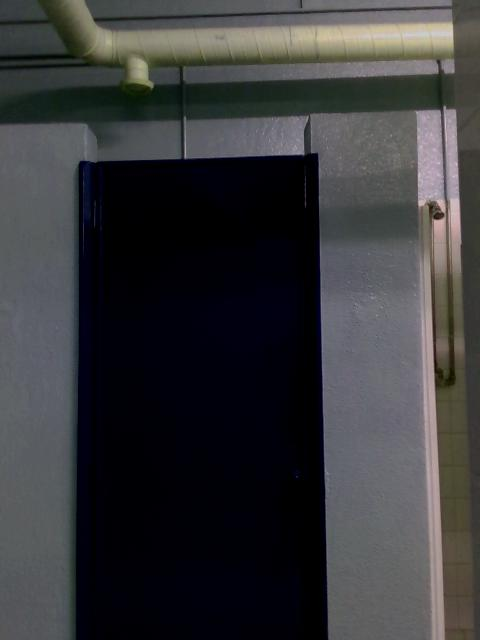closed_door: (75, 152, 323, 639)
